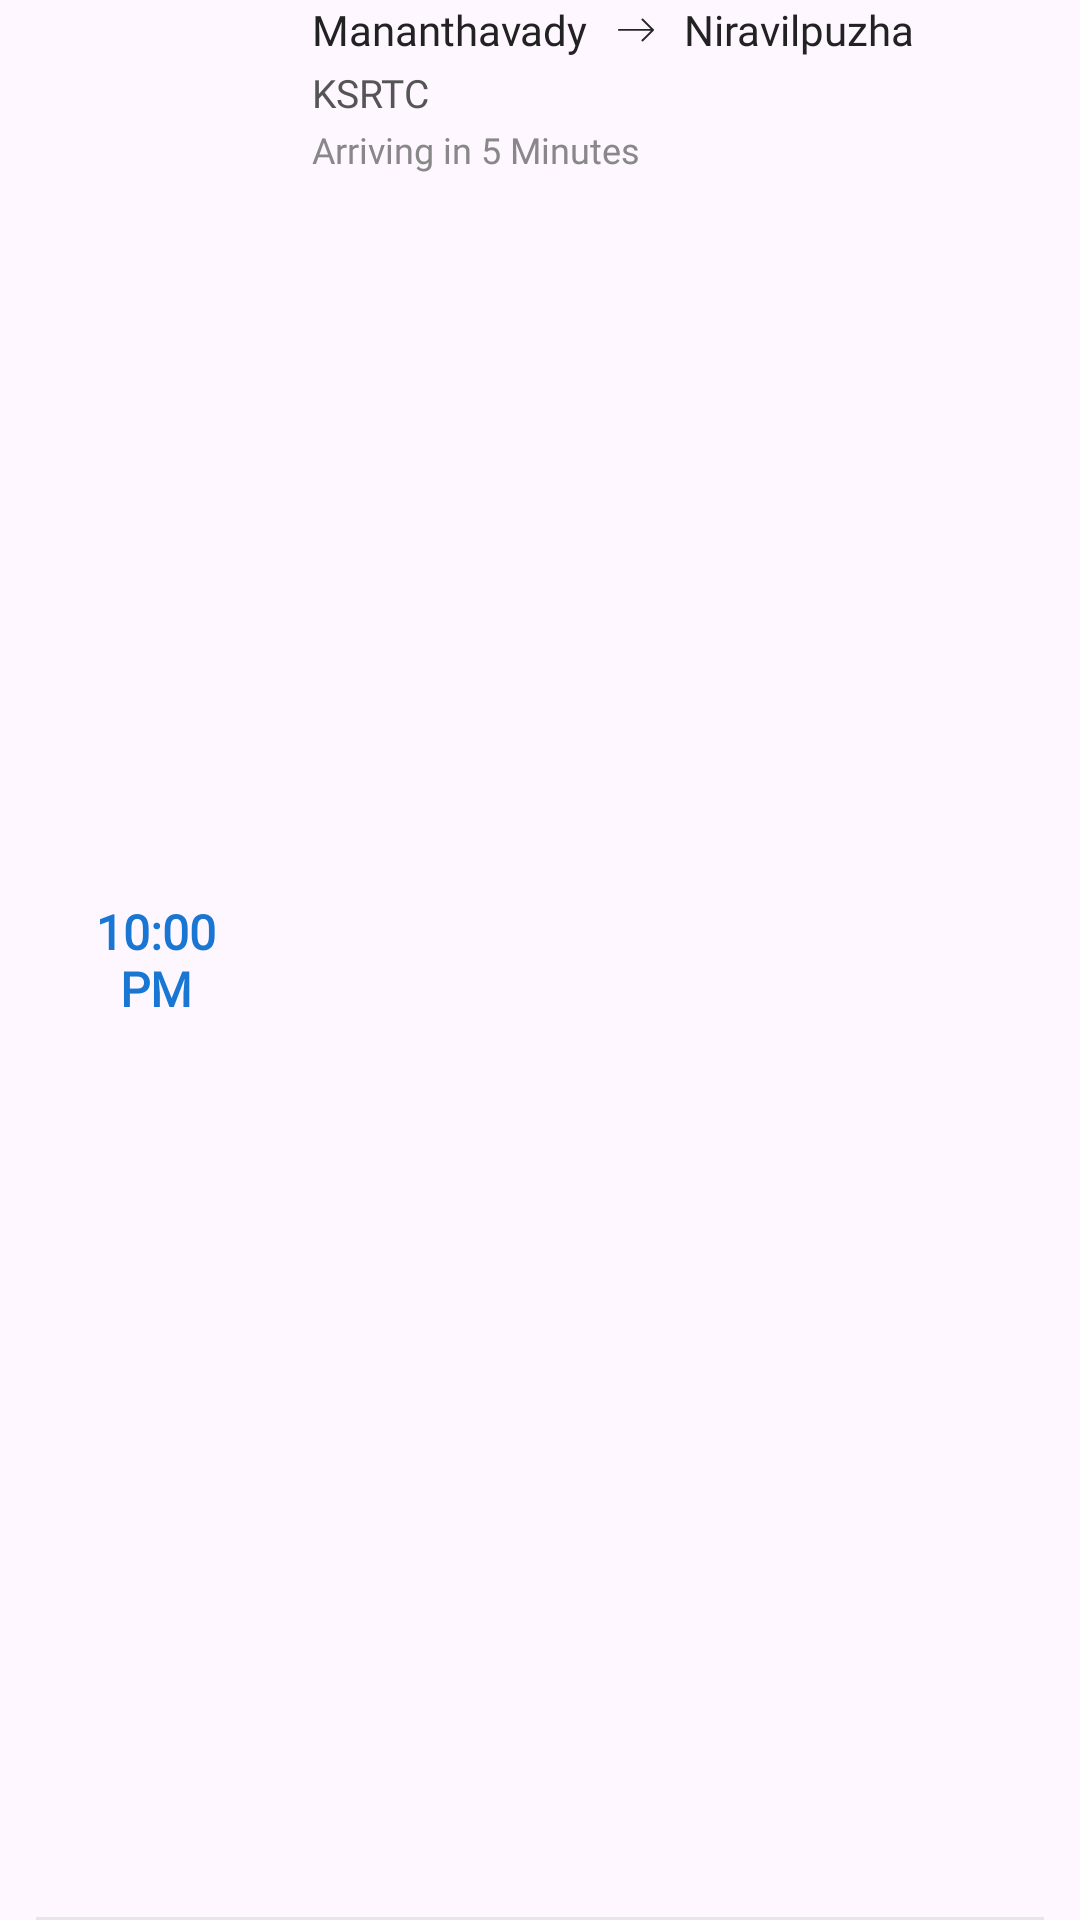

Icons on this 1080 × 1920 Android screen, each with the point to tap as (x=x, y=y):
right arrow: (x=636, y=30)
